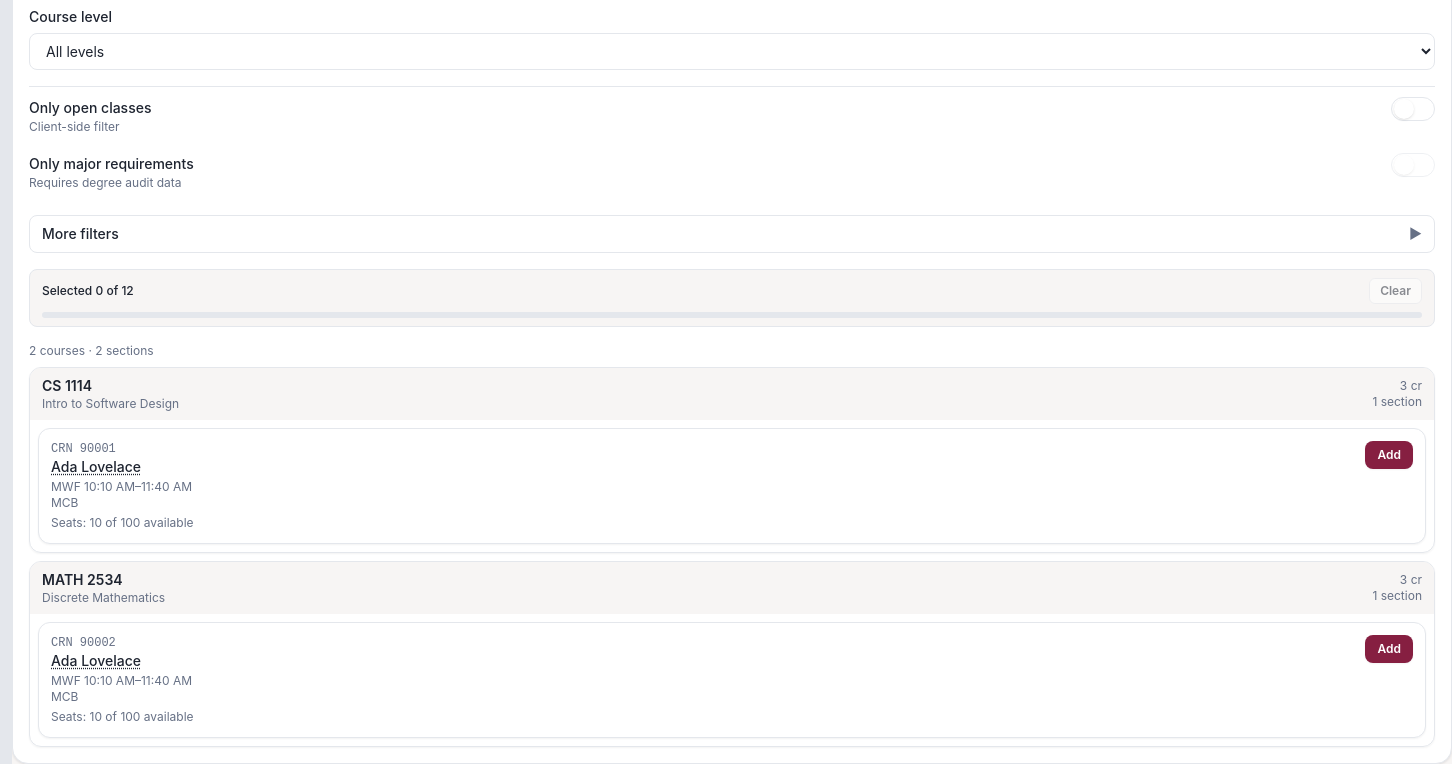
Test: SearchSidebar › preserves selection order across multiple adds
(page scrolled)
Expected: the text "CS 1114" is shown, [42,377,92,394]
Step 1. Click the button with aria-label "add section 90001" → click(1389, 455), box [1366,441,1413,469]
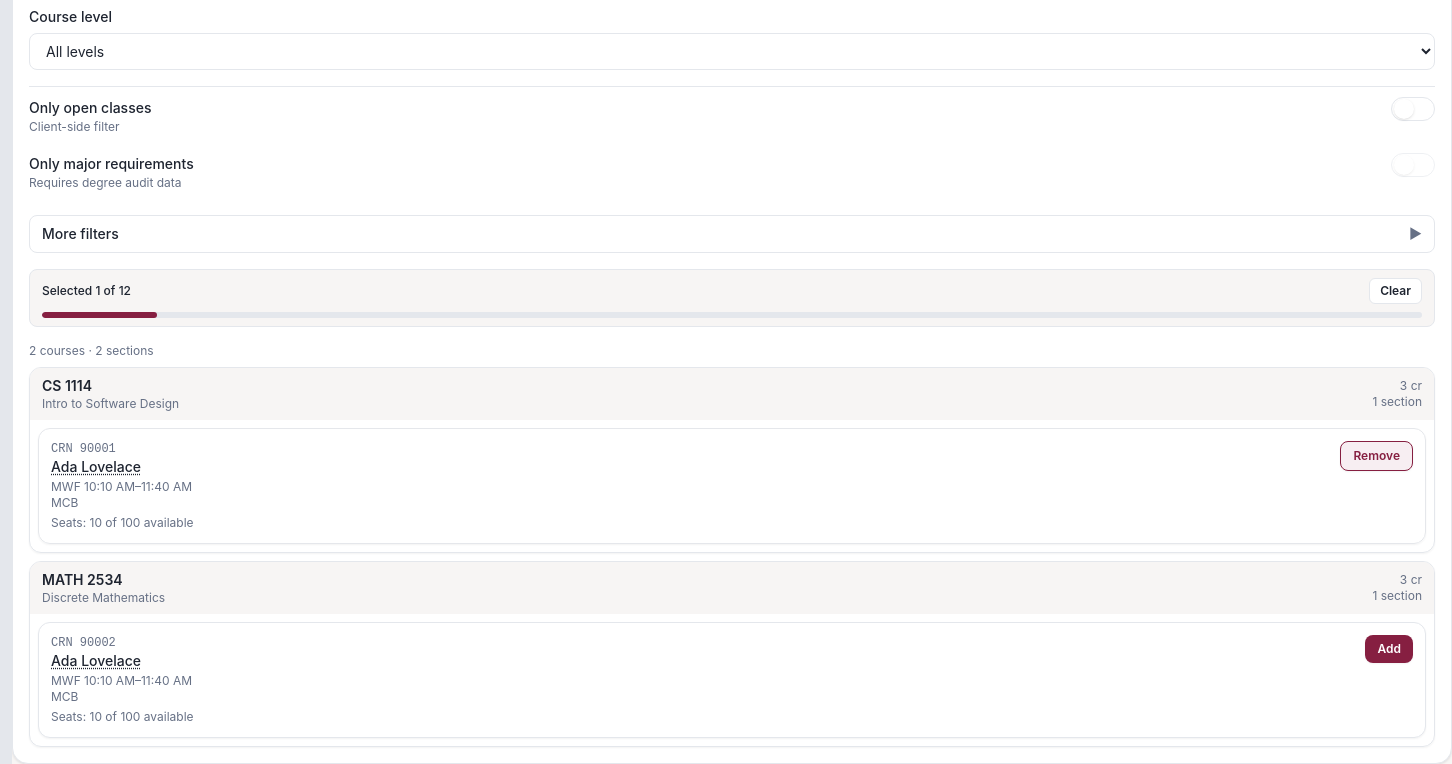
Step 2. Click the button with aria-label "add section 90002" → click(1389, 649), box [1366,635,1413,663]
(page scrolled)
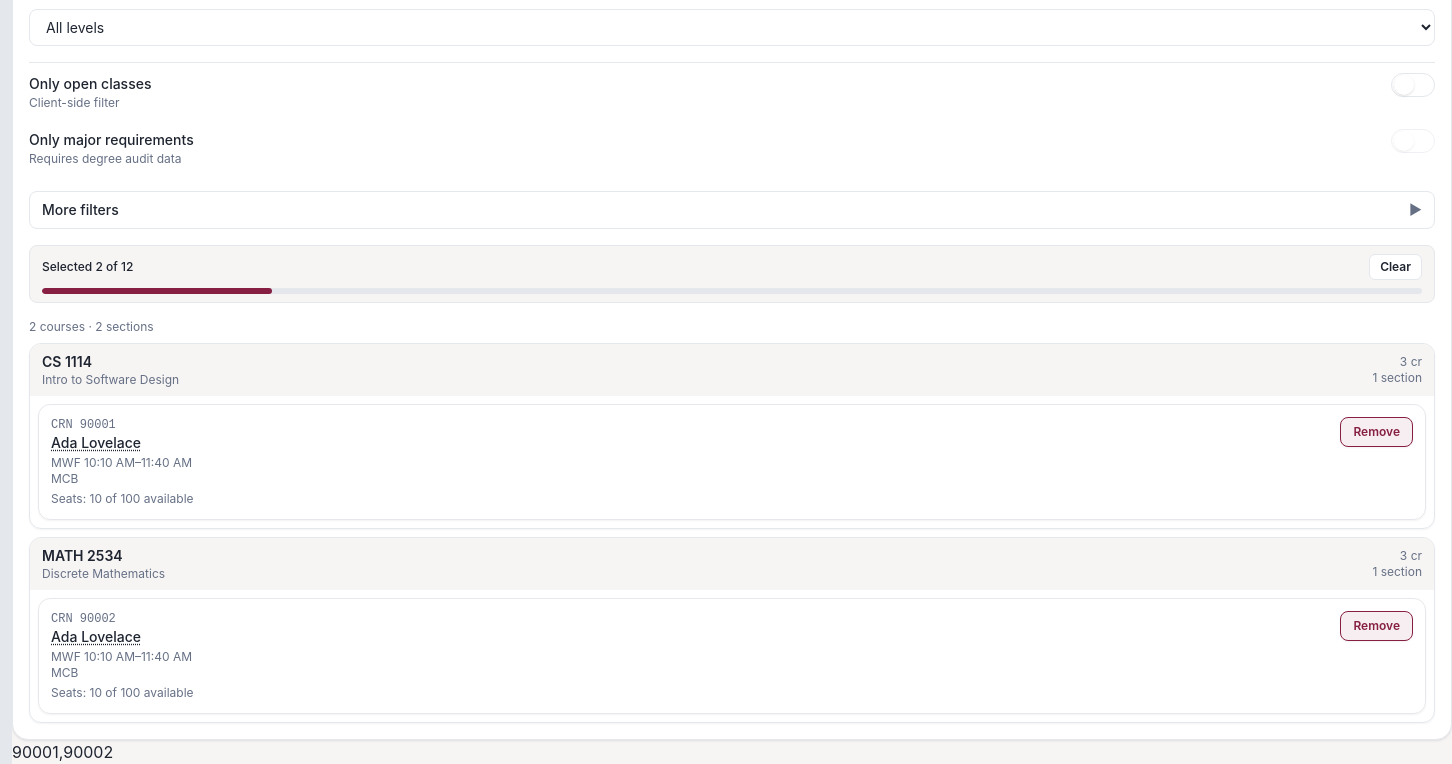
Result: the text with test id "crns" reads "90001,90002" at [12,742,113,762]
